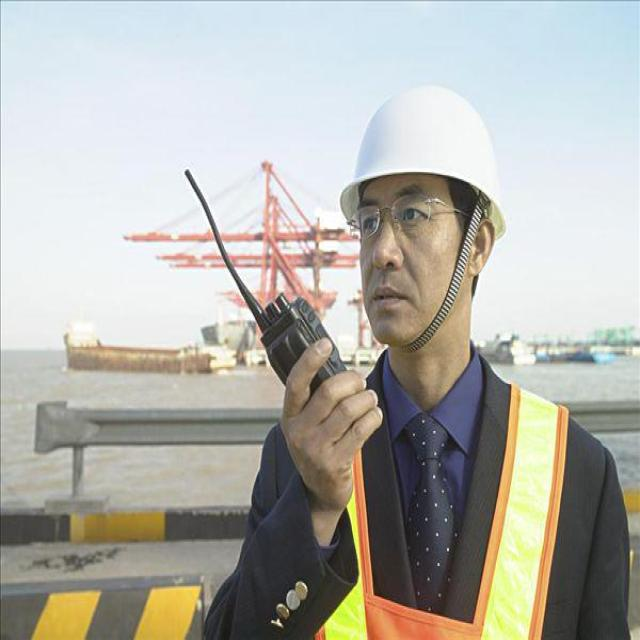helmet: (329, 72, 512, 252)
vest: (291, 357, 579, 640)
